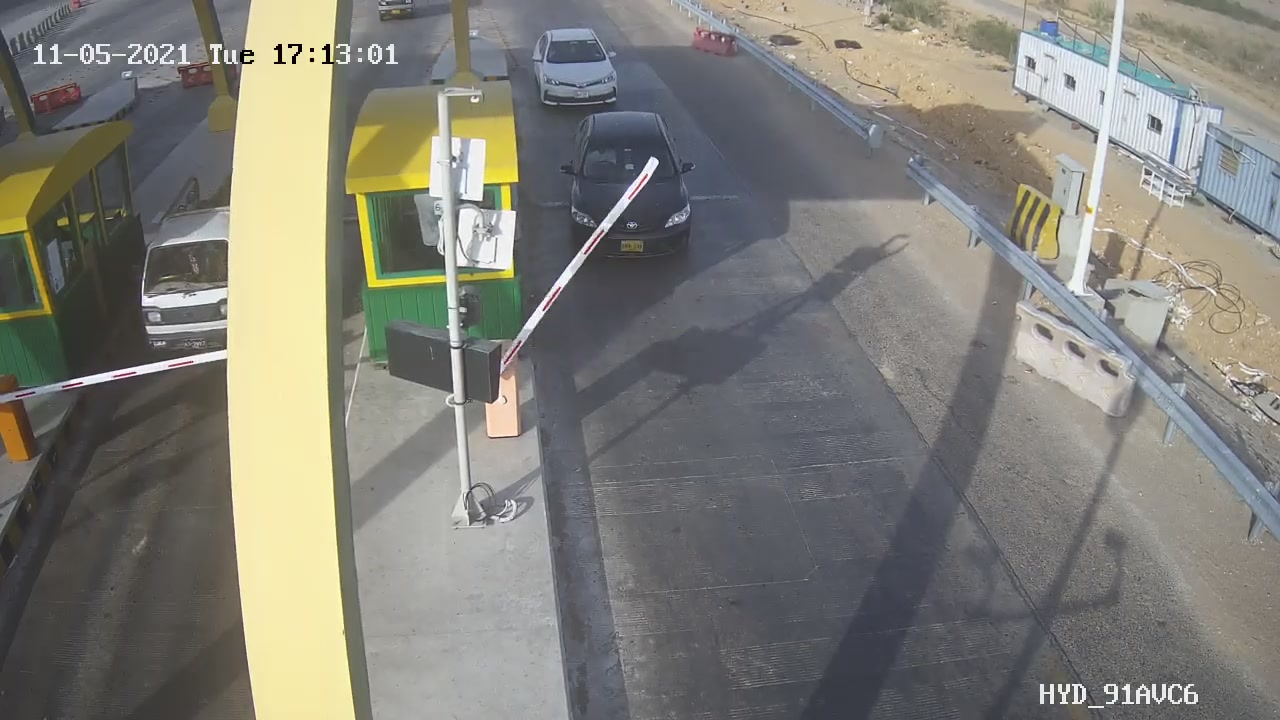F1: (547, 96, 713, 275), (522, 17, 635, 121)
